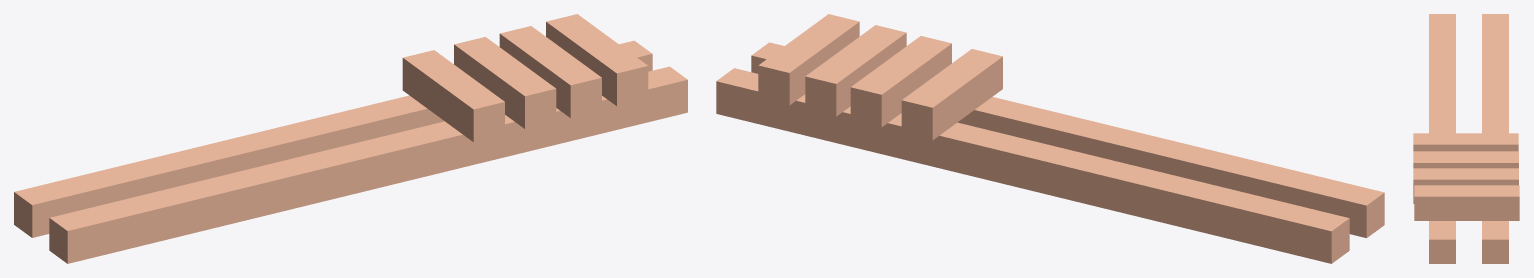
File: tent_poles.glb
The picture shows the model from 3 angles, left to right: view 1: azimuth 30°, elevation 25°; view 2: azimuth 150°, elevation 25°; view 3: azimuth 270°, elevation 25°; orthographic projection. The views are drawn at different scales.
Parts seen in each view (by area): view 1: tentPoles; view 2: tentPoles; view 3: tentPoles.
Boxes of the visible parts, x1,y1,x2,y2 form: tentPoles: (14,14,687,263); tentPoles: (716,14,1384,263); tentPoles: (1413,14,1519,263).
Size of the model in its own units: 0.5611 by 0.0574 by 0.112.
